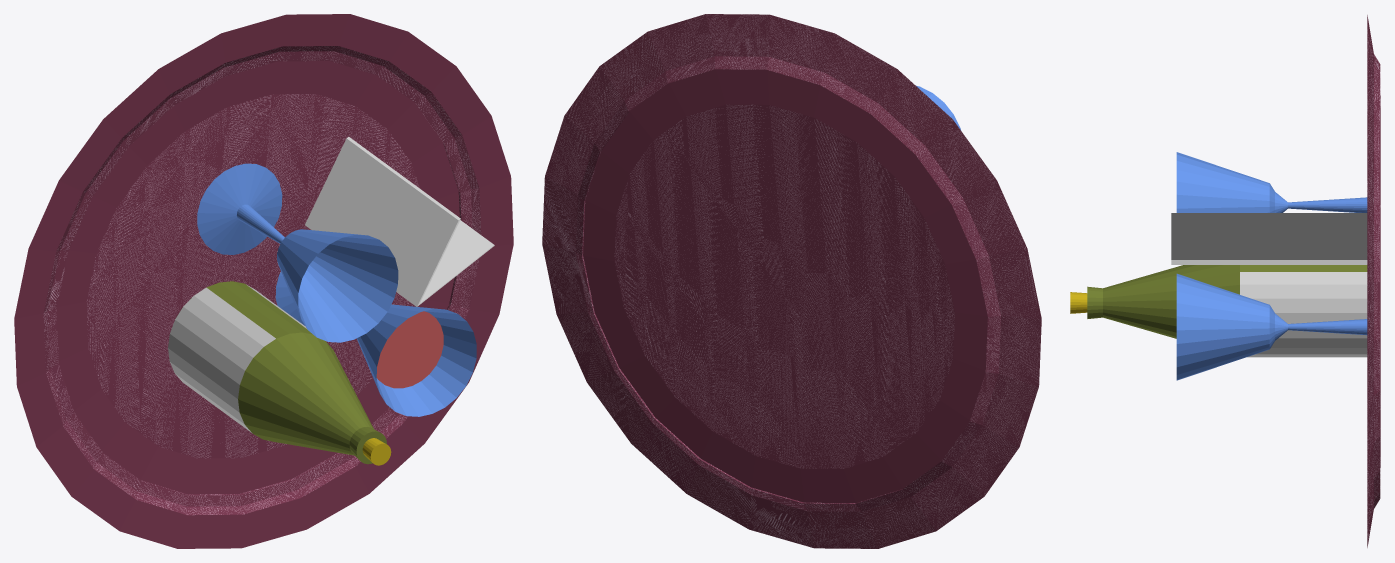
3 views of the same model, side by side, from view 1: azimuth 30°, elevation 25°; view 2: azimuth 150°, elevation 25°; view 3: azimuth 270°, elevation 25° (orthographic). The views are drawn at different scales.
Visible parts, largest first — view 1: ikki a glass or two yet; view 2: ikki a glass or two yet; view 3: ikki a glass or two yet.
Part boxes in pixels (x1,y1,x2,y2): ikki a glass or two yet: (14,14,513,548); ikki a glass or two yet: (542,14,1041,548); ikki a glass or two yet: (1070,15,1380,547).
Size of the model in its own units: 455 by 455 by 265.
